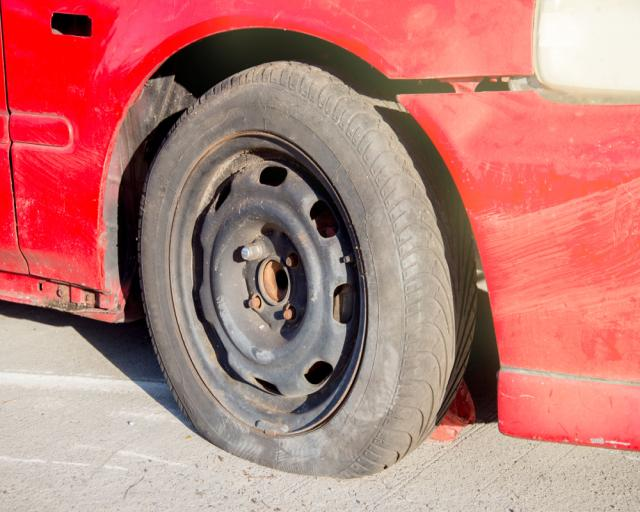tire flat: (139, 57, 480, 478)
